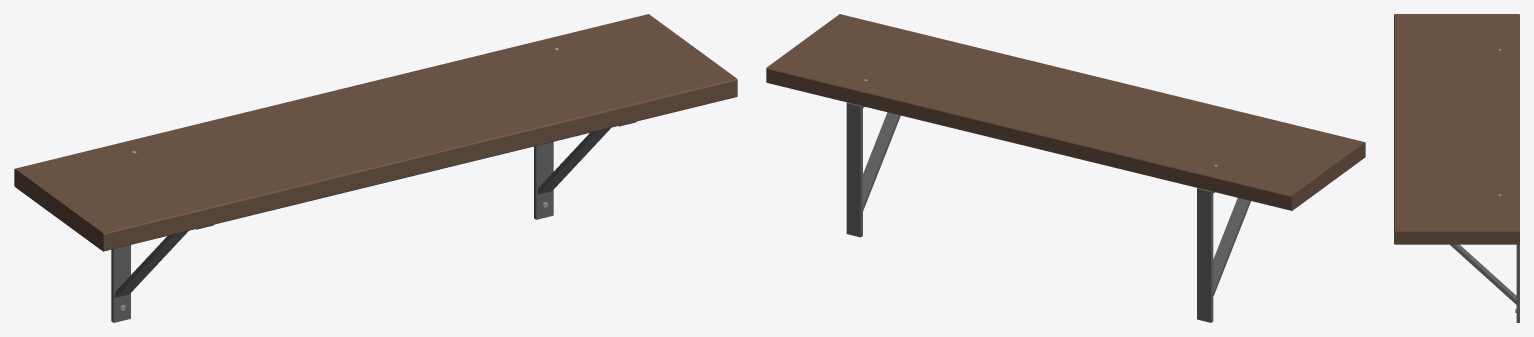
Rendered from wall-shelf-16acdb9dac2c.glb.
3 renders of one model, left to right at view 1: azimuth 30°, elevation 25°; view 2: azimuth 150°, elevation 25°; view 3: azimuth 270°, elevation 25°, orthographic. The views are drawn at different scales.
Visible parts, largest first — view 1: wood, metal; view 2: wood, metal; view 3: wood, metal.
Part boxes in pixels (x1,y1,x2,y2): wood: (14,14,737,251); metal: (111,121,636,322); wood: (766,14,1365,210); metal: (846,102,1250,322); wood: (1394,14,1519,244); metal: (1450,244,1519,322).
Size of the model in its own units: 0.9 by 0.2413 by 0.22.
